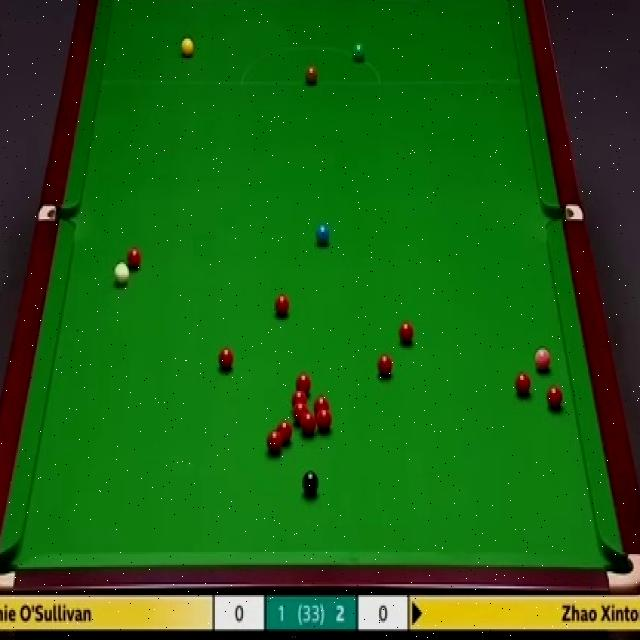black-ball: (301, 471, 319, 494)
blue-ball: (314, 223, 332, 247)
brown-ball: (304, 65, 317, 85)
green-ball: (353, 40, 365, 62)
pink-ball: (533, 348, 553, 372)
red-ball: (545, 384, 563, 410), (515, 370, 531, 398), (397, 320, 414, 344), (126, 248, 143, 272), (268, 428, 283, 455), (274, 293, 290, 318), (277, 420, 292, 445), (218, 346, 234, 369), (295, 372, 311, 395), (318, 407, 332, 433), (377, 353, 392, 377), (301, 412, 316, 435), (294, 402, 308, 424), (290, 390, 307, 408), (314, 394, 331, 411)
white-ball: (114, 262, 130, 288)
yellow-ball: (180, 37, 193, 60)
